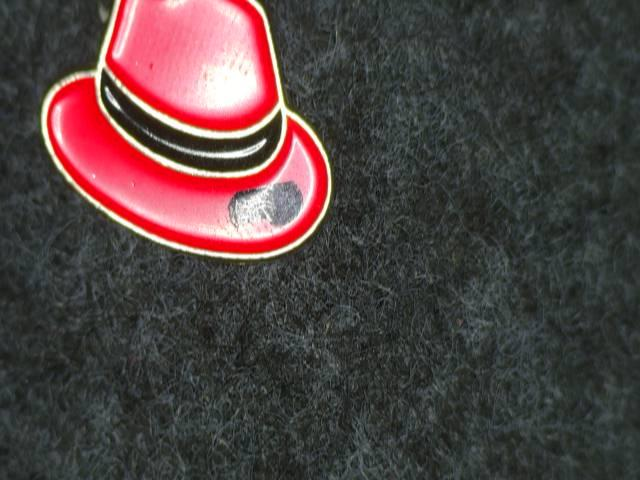Red-Hat: (7, 0, 358, 285)
Scratch: (216, 167, 308, 256)
